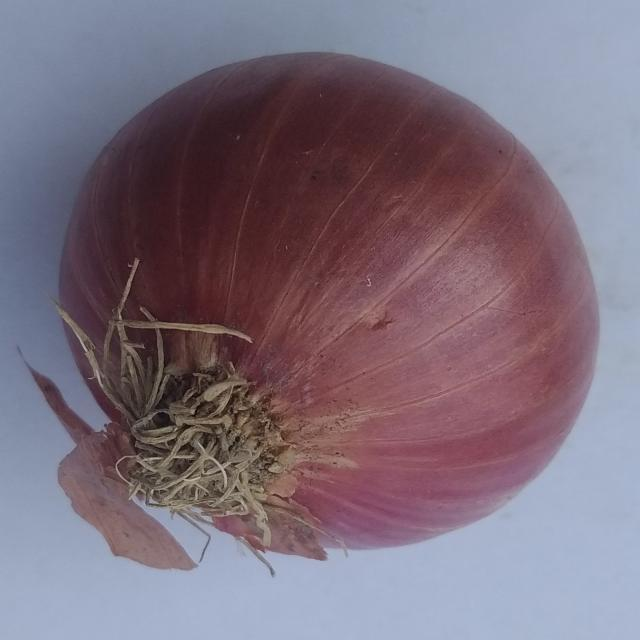onion: (23, 51, 602, 576)
